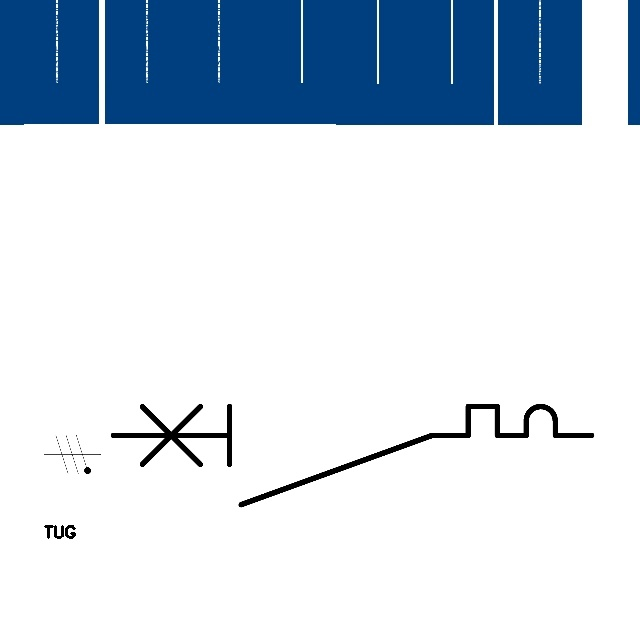interruptor_termomagnetico: (100, 394, 603, 517)
